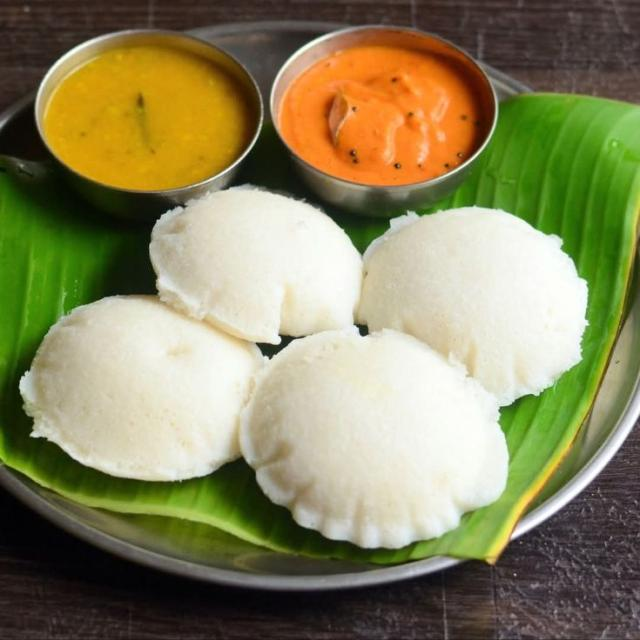idly: (246, 325, 532, 542), (25, 285, 275, 481), (362, 214, 582, 387), (143, 191, 371, 328)
